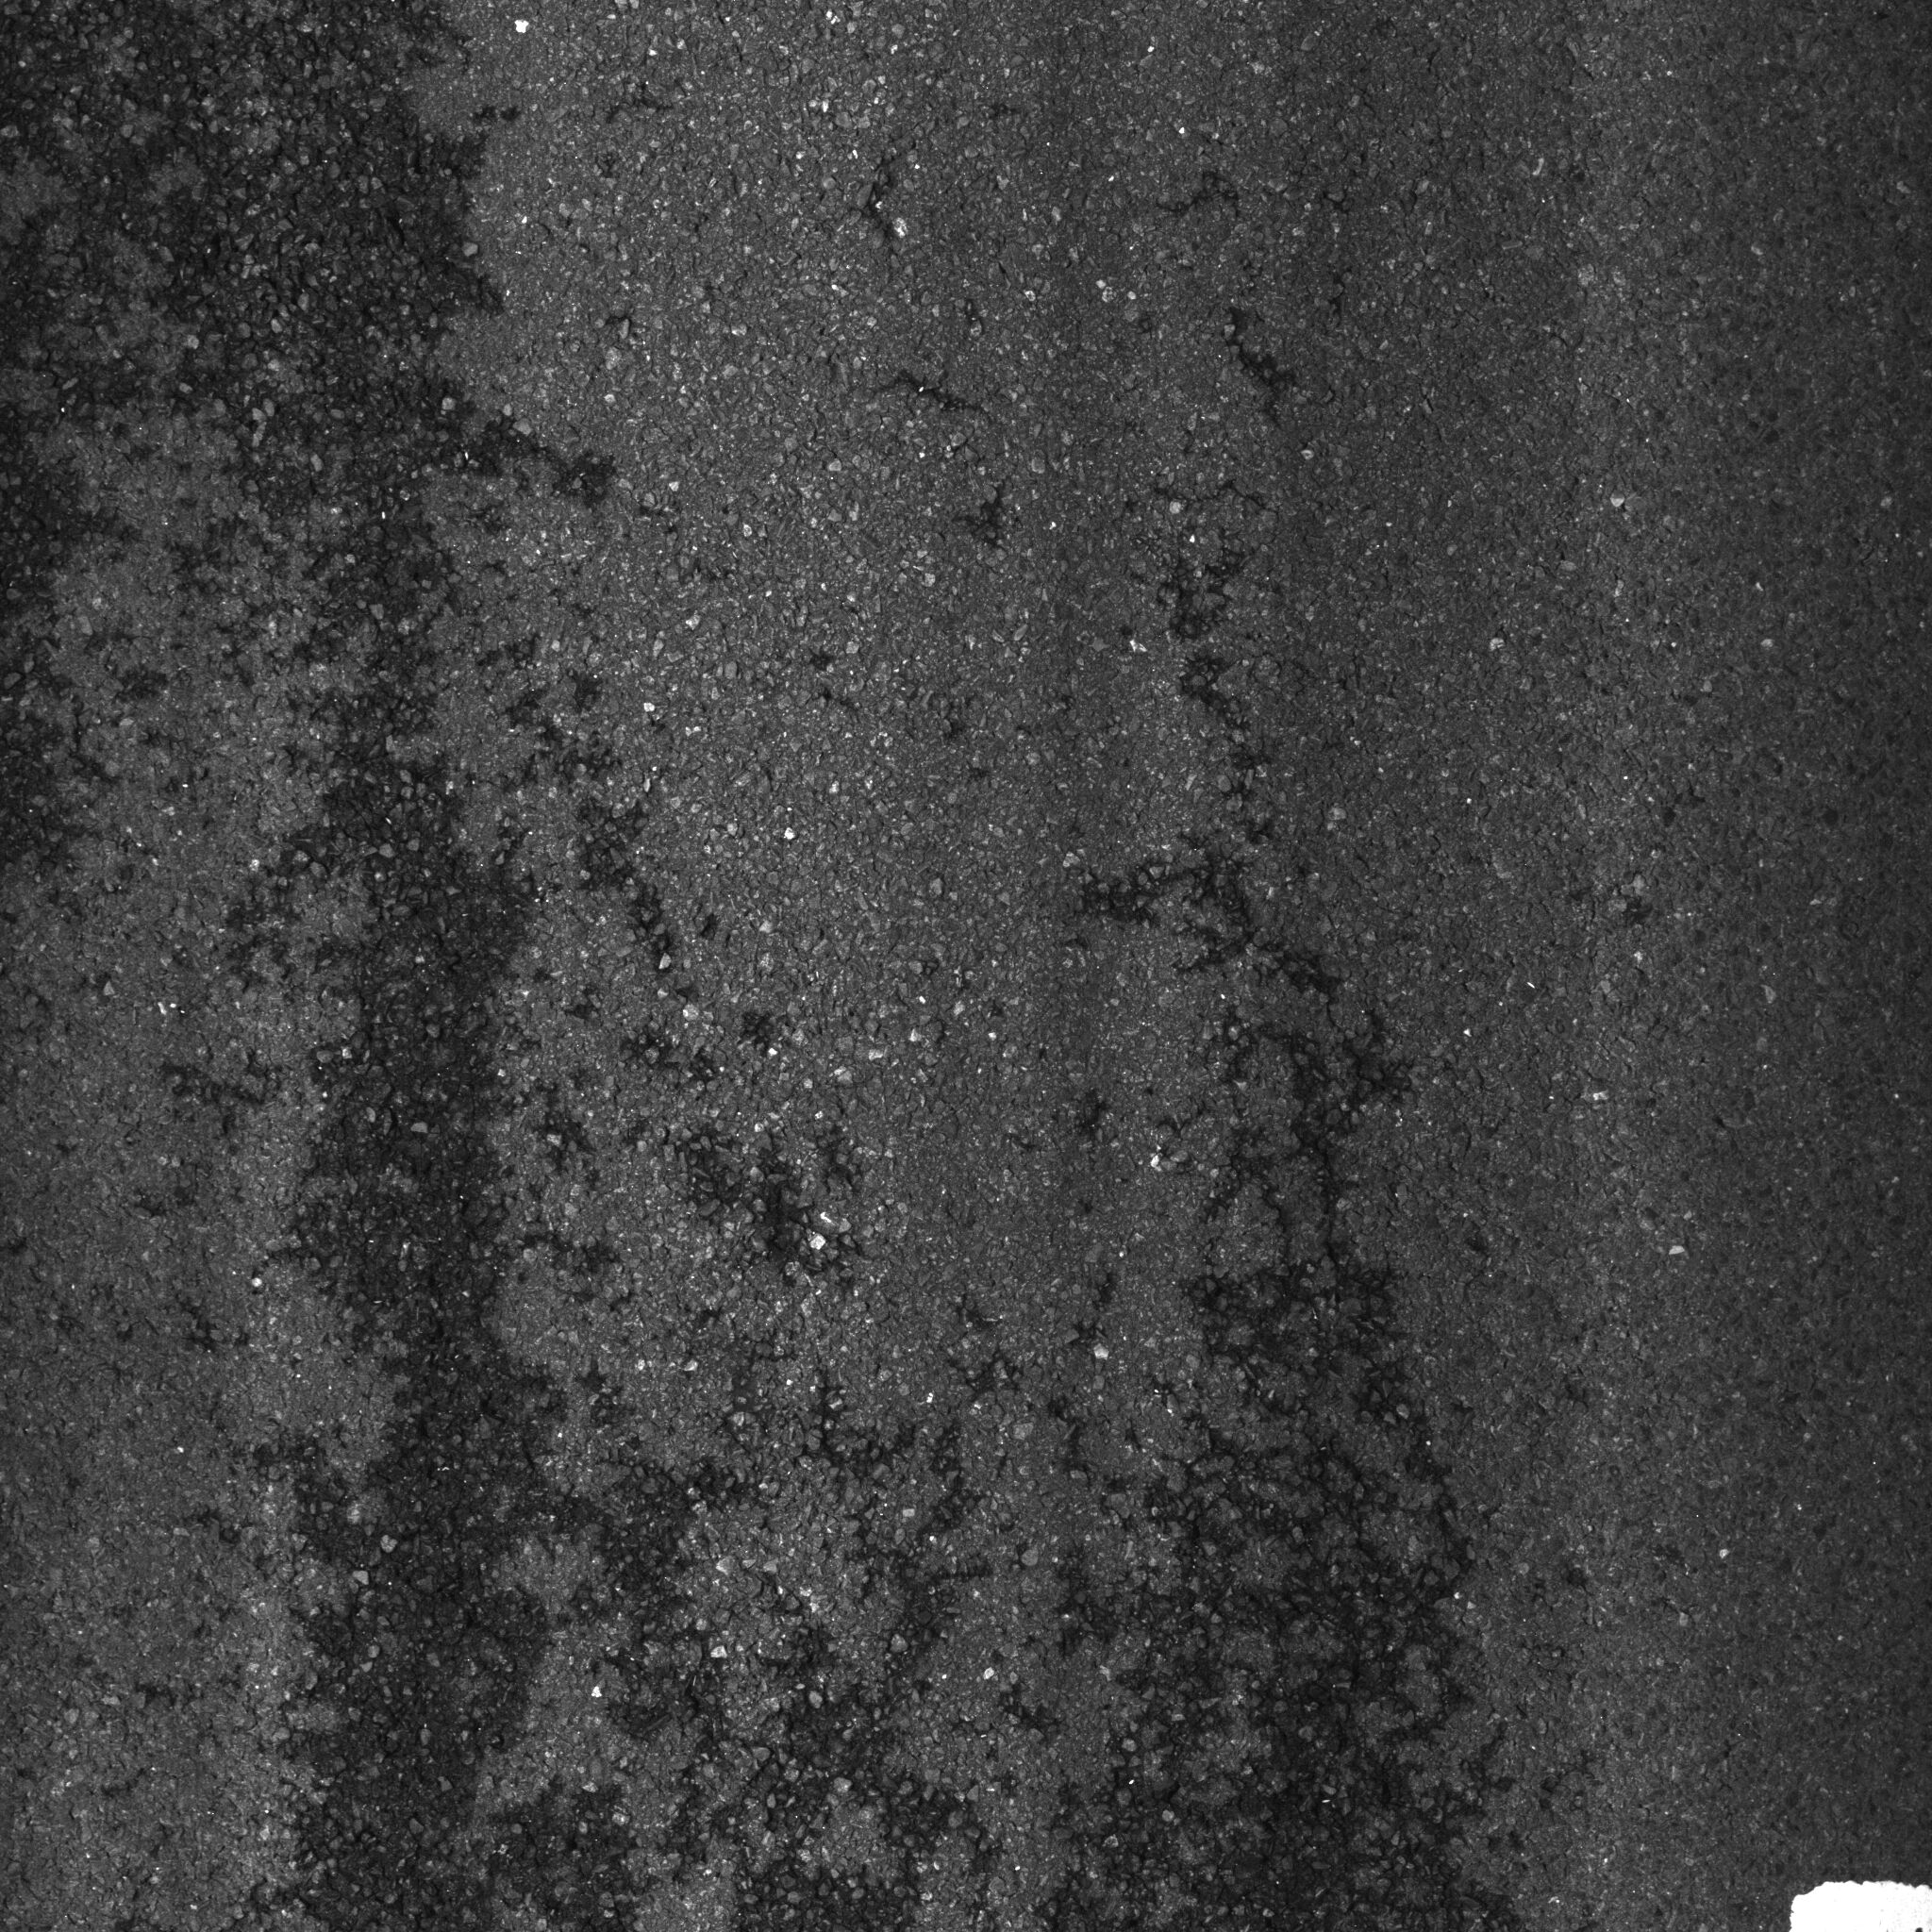alligator: (768, 757, 1711, 1932)
